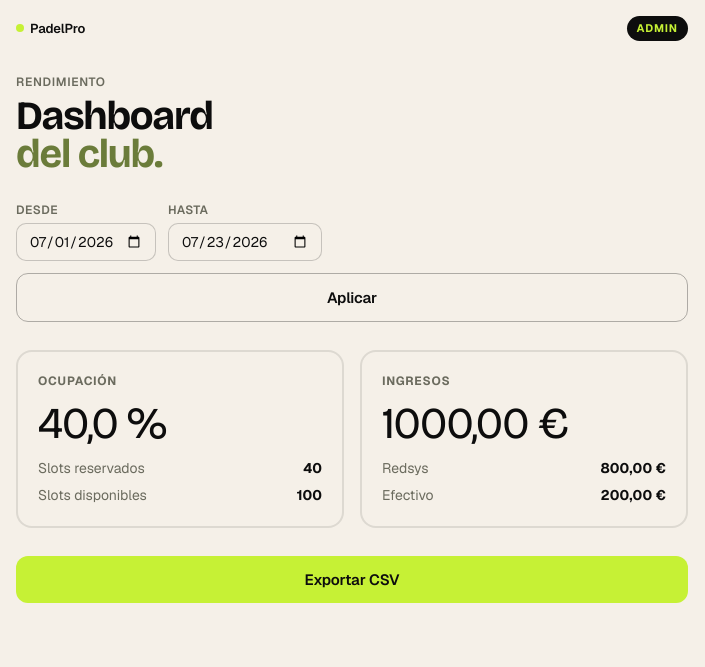
Scenario: AdminDashboardPage › exportación CSV › 5.3 — shows an error when the export fails
The image size is (705, 667).
Check: the text "40,0 %" is shown, box x1=38 y1=396 x2=166 y2=450
Click the button "Exportar CSV" at (352, 579), box x1=16 y1=556 x2=688 y2=602
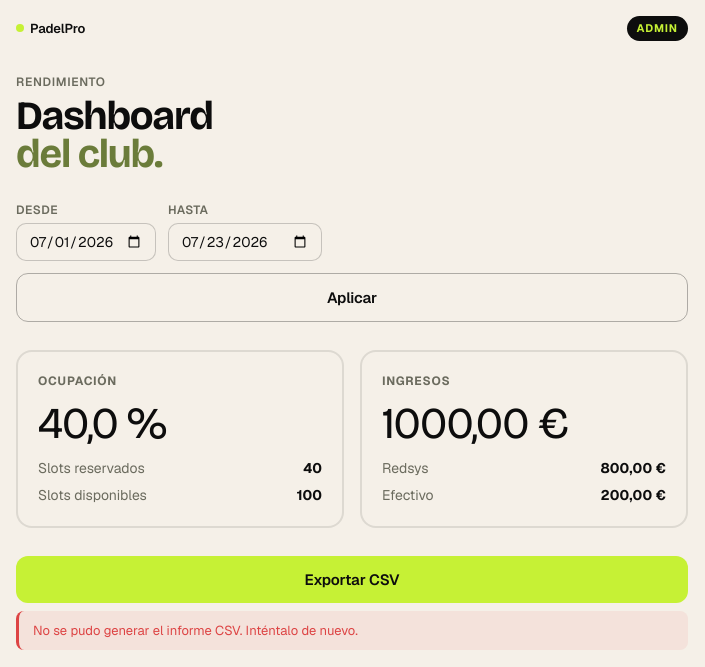
Check: the text "No se pudo generar el informe CSV. Inténtalo de nuevo." is shown, box x1=16 y1=610 x2=688 y2=650
